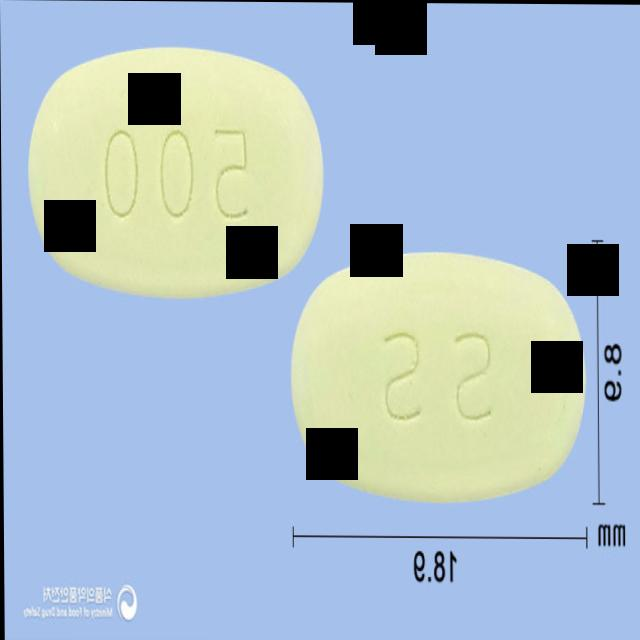Samsung Clarithromycin Tab-500mg: (287, 248, 586, 505), (26, 46, 323, 296)
